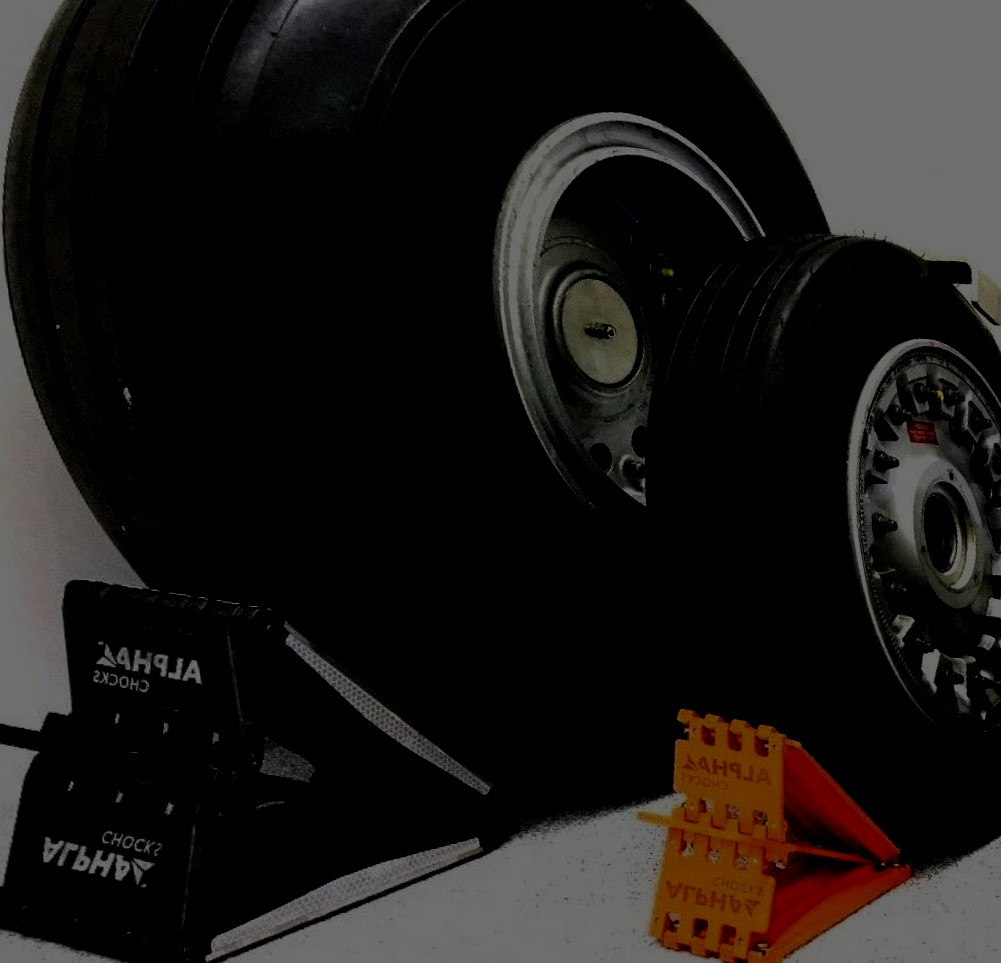chock: (0, 570, 538, 963), (610, 706, 931, 963)
wheel: (0, 0, 927, 819), (618, 213, 1001, 836)
